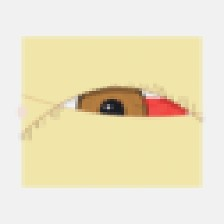hemorrhage_spot: (99, 71, 201, 153)
